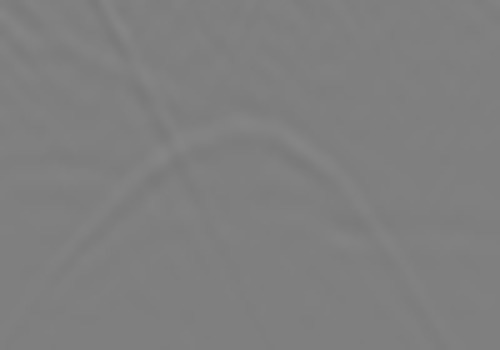hyperbola: (69, 109, 424, 301)
